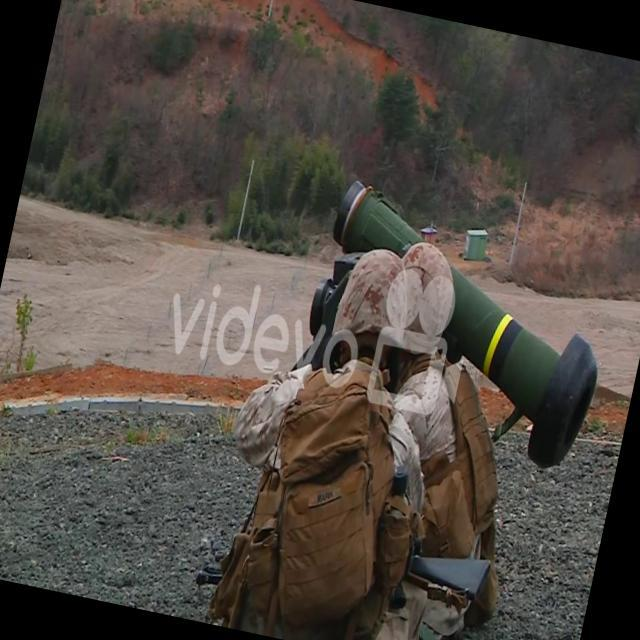rocket: (300, 177, 624, 473)
